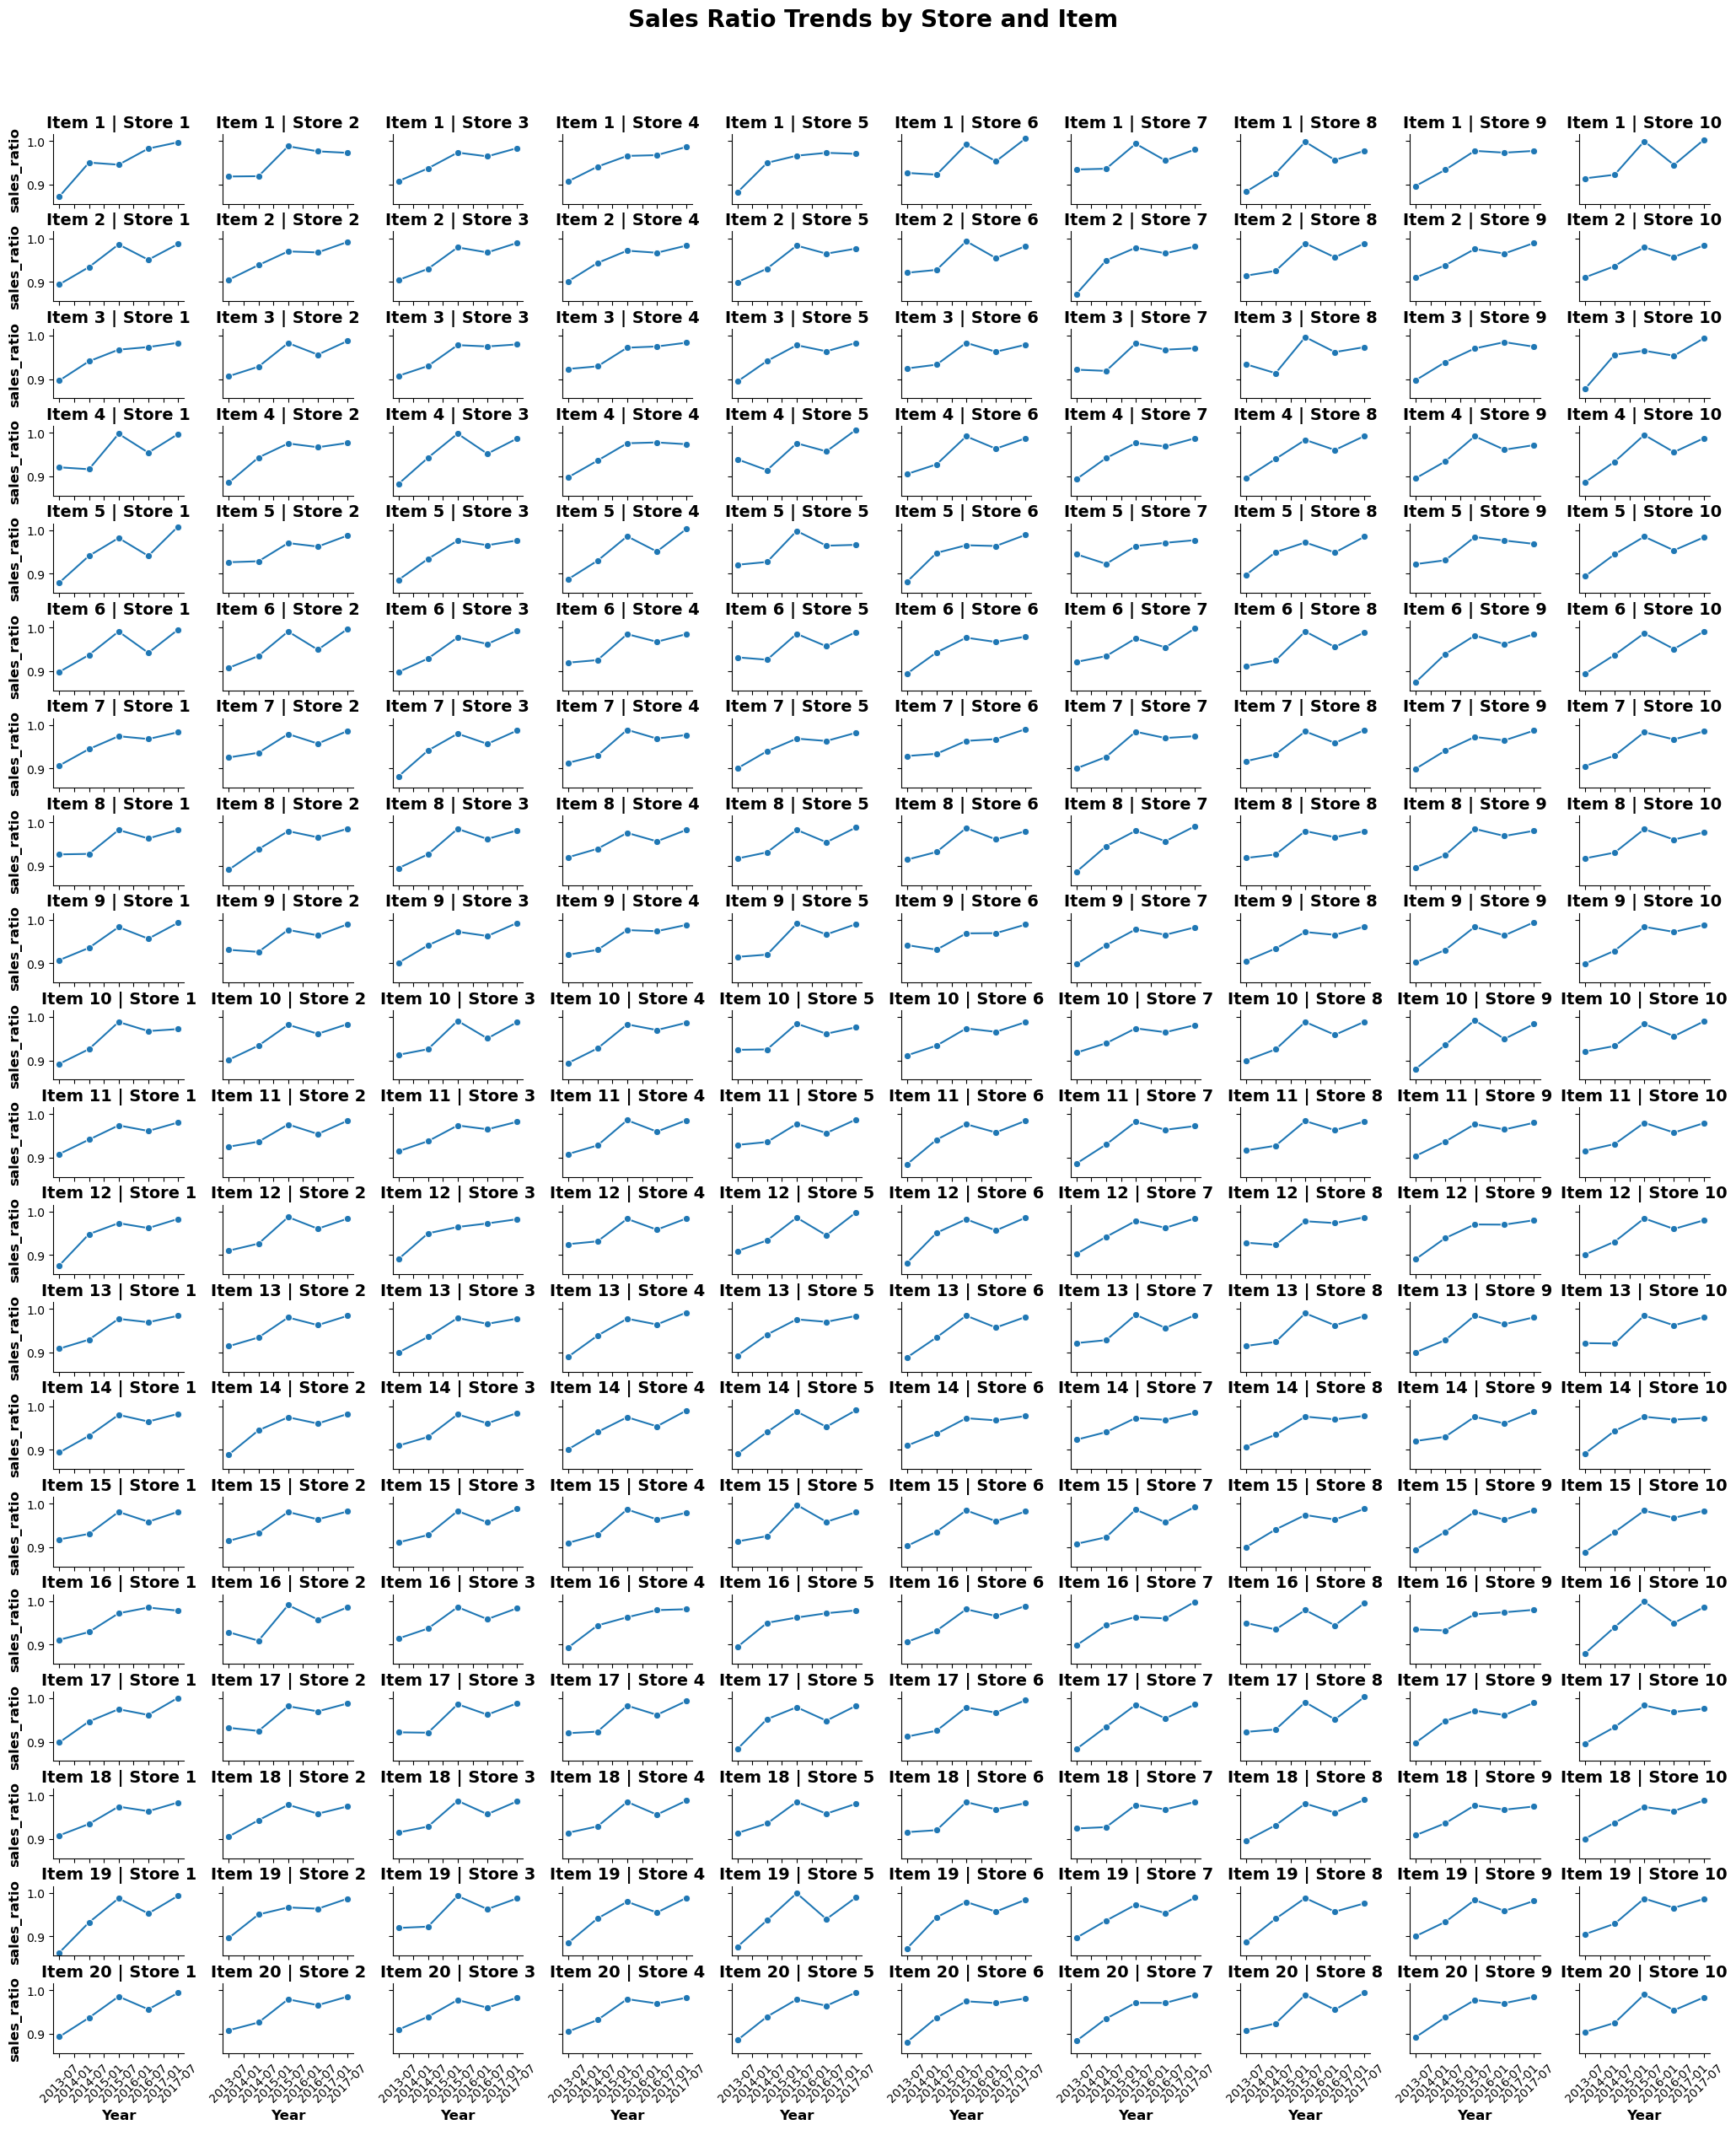

What the dashboard file says about the page in this screenshot:
{"tool":"powerbi","page":{"name":"Page 1","canvas":[1280,720],"ordinal":0},"visuals":[{"type":"lineChart","fields":{"Y":["Median(df.sales)"],"Category":["df.date.Variation.Date Hierarchy.Year","df.date.Variation.Date Hierarchy.Quarter","df.date.Variation.Date Hierarchy.Month","df.date.Variation.Date Hierarchy.Day"],"Rows":["df.item"]},"box":[25.7,0,506.3,564.9],"z":0},{"type":"pythonVisual","box":[26,570,506,150],"z":1}]}

Visuals, with their boxes on the page's 1280x720 design canvas (x1, y1, x2, y2). These are canvas units, not pixel positions in the 1736x2130 screenshot, which may show the page scaled, cropped or inside an application window:
lineChart - Median(df.sales) x df.date.Variation.Date Hierarchy.Year: [x1=26, y1=0, x2=532, y2=565]
pythonVisual: [x1=26, y1=570, x2=532, y2=720]
